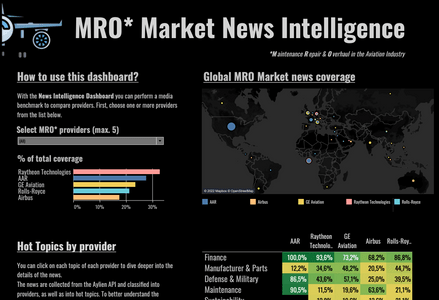

Layout of this report page (visuals, bound fields, positions):
{"tool":"tableau","page":{"name":"Dashboard 4","canvas":[1000,1000],"units":"permille","ordinal":3},"visuals":[{"type":"image","param":"/Users/linaperez/Downloads/MRO Competitor Dashboard (2).svg","box":[5.6,9.2,988.9,981.6]},{"type":"text","box":[29.3,90.1,936.5,102]},{"type":"filter","title":"Topics by competitor","param":"[federated.1ae10v81wy3b7i15cuhjb1202363].[none:name (competitors):nk]","box":[346.6,189.4,316.5,83.4]},{"type":"text","box":[790.1,225.2,132.6,39.7]},{"type":"worksheet","title":"Links","mark":"Automatic","rows":["clean_title (news_flash)"],"box":[340.1,312.6,300.2,243.7]},{"type":"image","param":"/Users/linaperez/Desktop/Screenshot 2022-06-23 at 12.35.32.png","box":[652.6,317.9,297,256.9]},{"type":"worksheet","title":"Topics by competitor","mark":"Square","rows":["name"],"cols":["name (competitors)"],"box":[52.1,321.9,278.3,250.3]},{"type":"worksheet","title":"map","mark":"Automatic","box":[646.1,588.1,302.7,256.9]},{"type":"worksheet","title":"Products","mark":"Automatic","rows":["news_id (news_products)"],"cols":["name (competitors)"],"box":[350.7,593.4,141.6,292.7]},{"type":"worksheet","title":"Finance in detail","mark":"Automatic","rows":["id (news_clean)"],"cols":["name (competitors)","rank_name"],"box":[48,602.6,275.8,294]},{"type":"legend","title":"Products","param":"[federated.1ae10v81wy3b7i15cuhjb1202363].[none:name (products_services):nk]","box":[515.9,670.2,113.9,160.3]},{"type":"legend","title":"map","param":"[federated.1ae10v81wy3b7i15cuhjb1202363].[none:name (competitors):nk]","box":[646.9,830.5,196.9,59.6]}]}

Visuals, with their boxes on the dashboard's canvas, which has no fixed pixel size, in thousandths of its width and height (x1, y1, x2, y2). These are canvas units, not pixel positions in the 439x300 screenshot, which may show the page scaled, cropped or inside an application window:
image: rect(6, 9, 994, 991)
text: rect(29, 90, 966, 192)
"Topics by competitor" filter: rect(347, 189, 663, 273)
text: rect(790, 225, 923, 265)
"Links" worksheet: rect(340, 313, 640, 556)
image: rect(653, 318, 950, 575)
"Topics by competitor" worksheet (Square marks): rect(52, 322, 330, 572)
"map" worksheet: rect(646, 588, 949, 845)
"Products" worksheet: rect(351, 593, 492, 886)
"Finance in detail" worksheet: rect(48, 603, 324, 897)
"Products" legend: rect(516, 670, 630, 830)
"map" legend: rect(647, 830, 844, 890)
